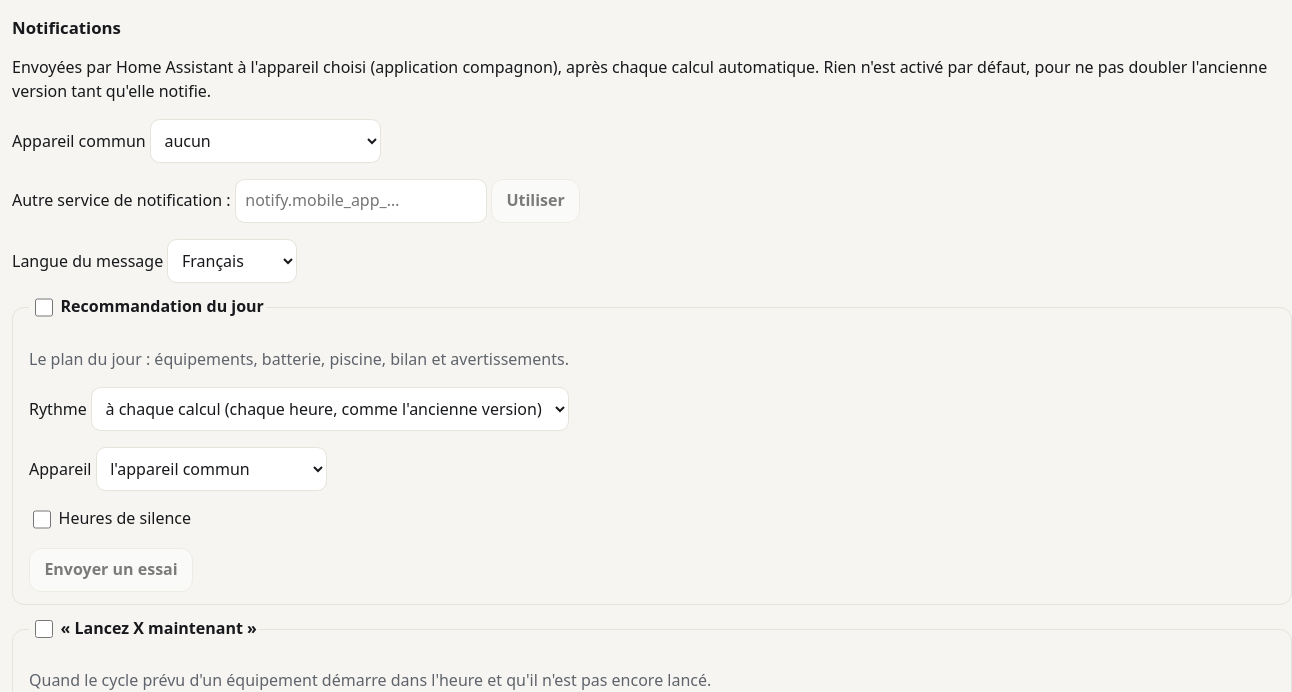
it: SettingsScreen › accepte un service saisi à la main et dit pourquoi l'essai échoue
expect the button with aria-label "Envoyer un essai : Recommandation du jour" is disabled: met, box x1=29 y1=548 x2=193 y2=592
Type "notify.tablette" into the field labelled "Autre service de notification :" at (361, 201), box x1=235 y1=179 x2=487 y2=223
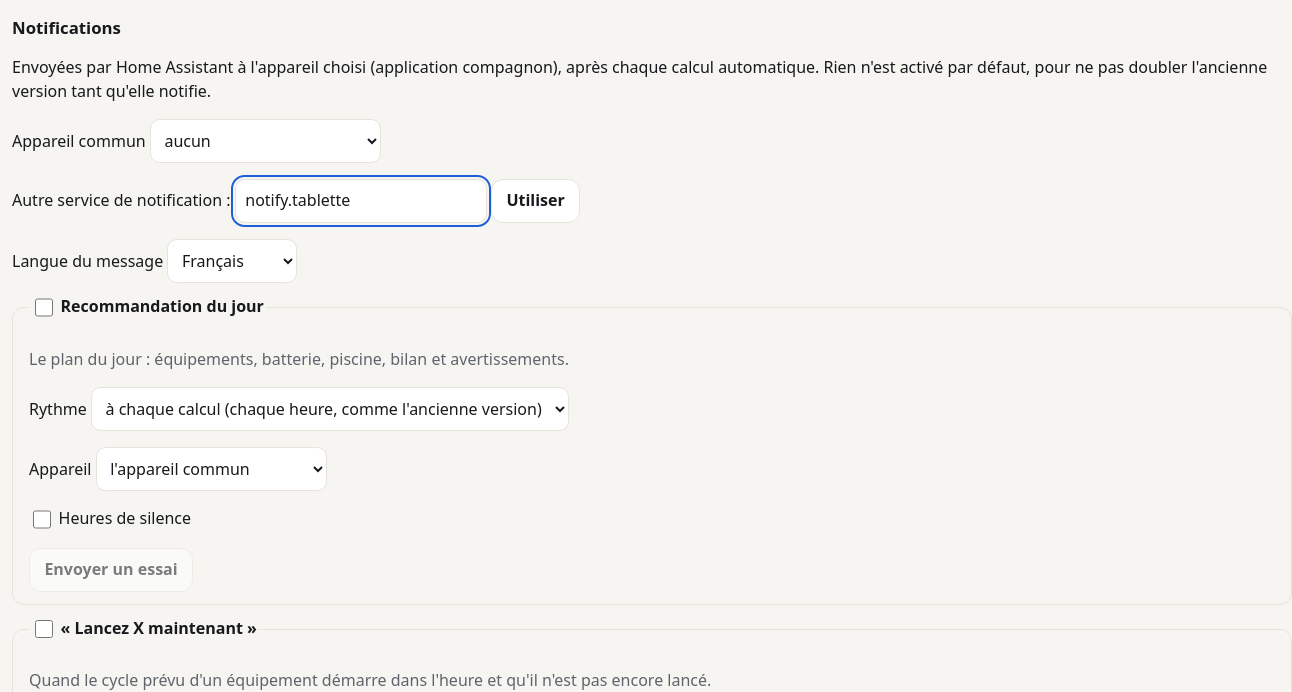
Click the button "Utiliser" at (536, 201), box x1=491 y1=179 x2=580 y2=223
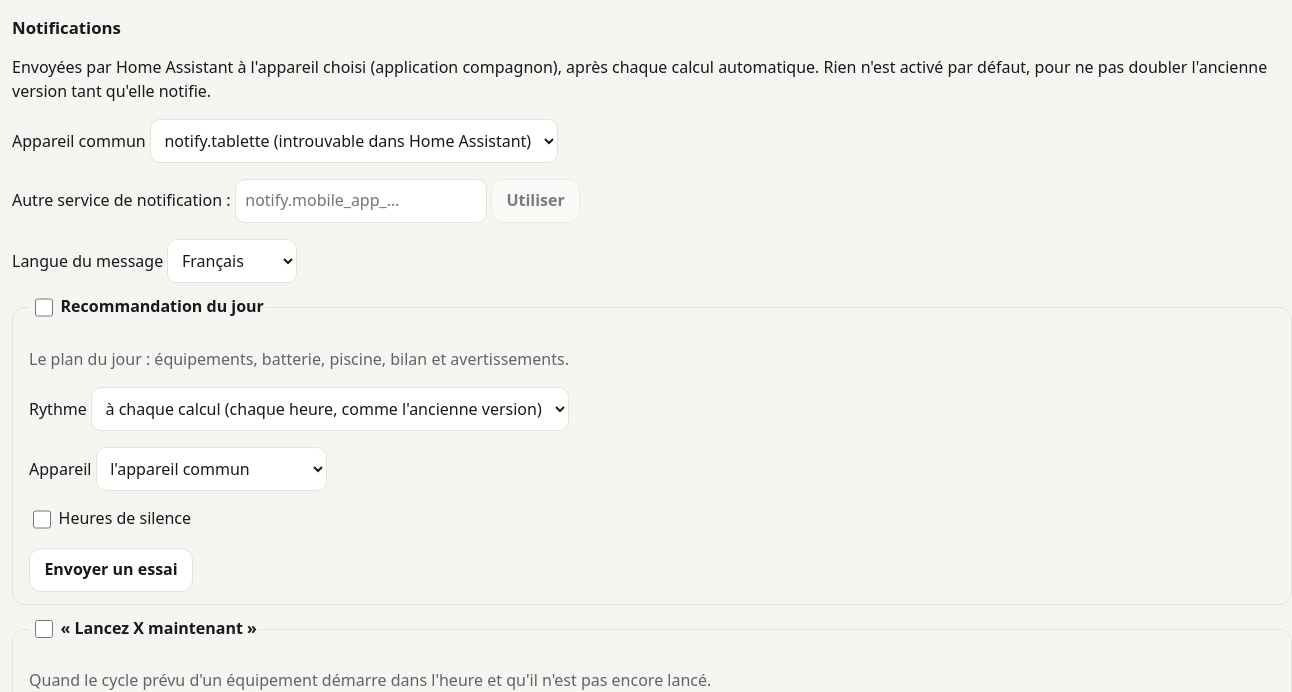
expect the dropdown labelled "Appareil commun" shows "notify.tablette (introuvable dans Home Assistant)": met, box x1=150 y1=119 x2=558 y2=163
Click the button with aria-label "Envoyer un essai : Recommandation du jour" at (111, 570), box x1=29 y1=548 x2=193 y2=592
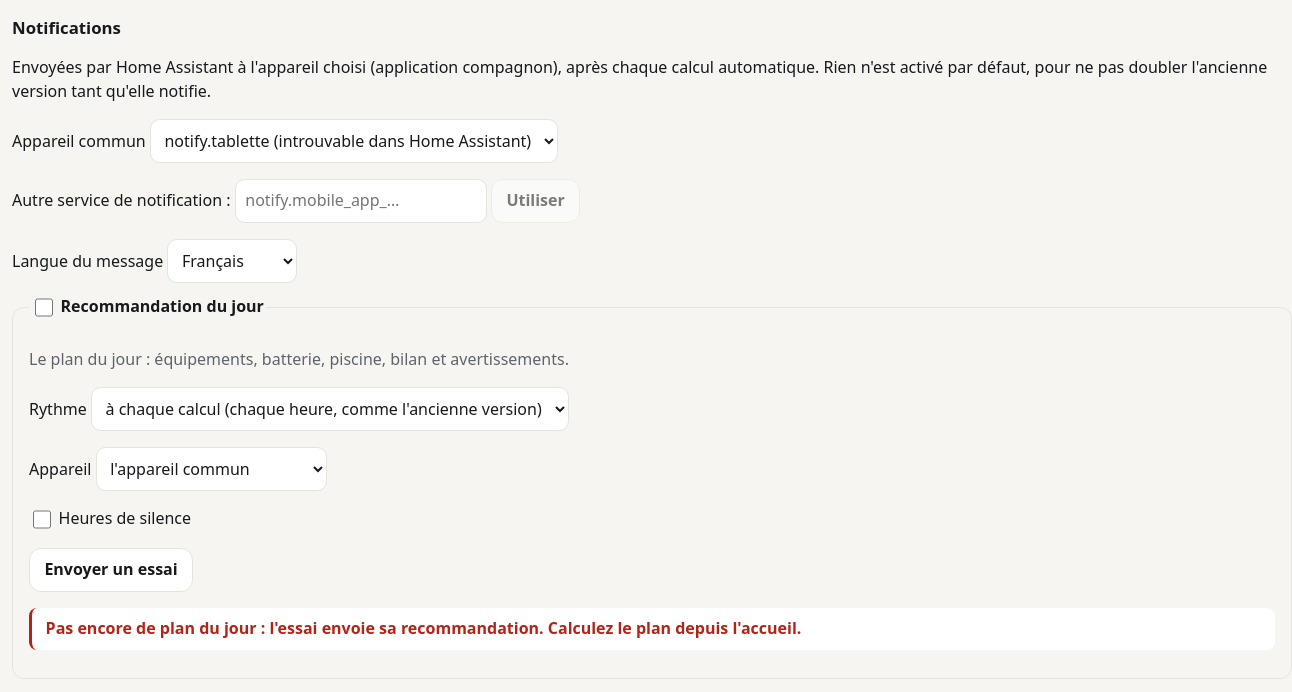
expect the text "Pas encore de plan du jour" is shown: met, box x1=46 y1=617 x2=801 y2=639
